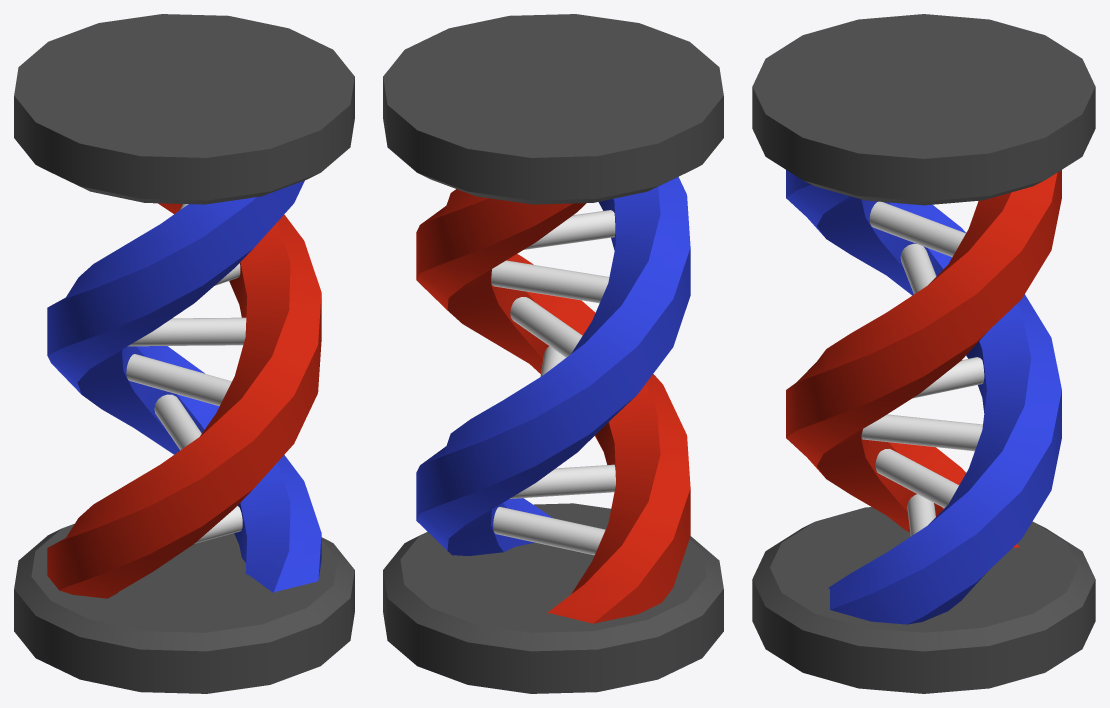
The model's file is doubleHelixStatue.fbx.
3 renders of one model, left to right at view 1: azimuth 30°, elevation 25°; view 2: azimuth 150°, elevation 25°; view 3: azimuth 270°, elevation 25°, orthographic.
Parts seen in each view (by area): view 1: Helix Statue; view 2: Helix Statue; view 3: Helix Statue.
Boxes of the visible parts, x1,y1,x2,y2 form: Helix Statue: (14,14,354,693); Helix Statue: (383,14,723,693); Helix Statue: (752,14,1095,693).
Bounding box in the file's own units: 12.01 × 12.01 × 20.67.
